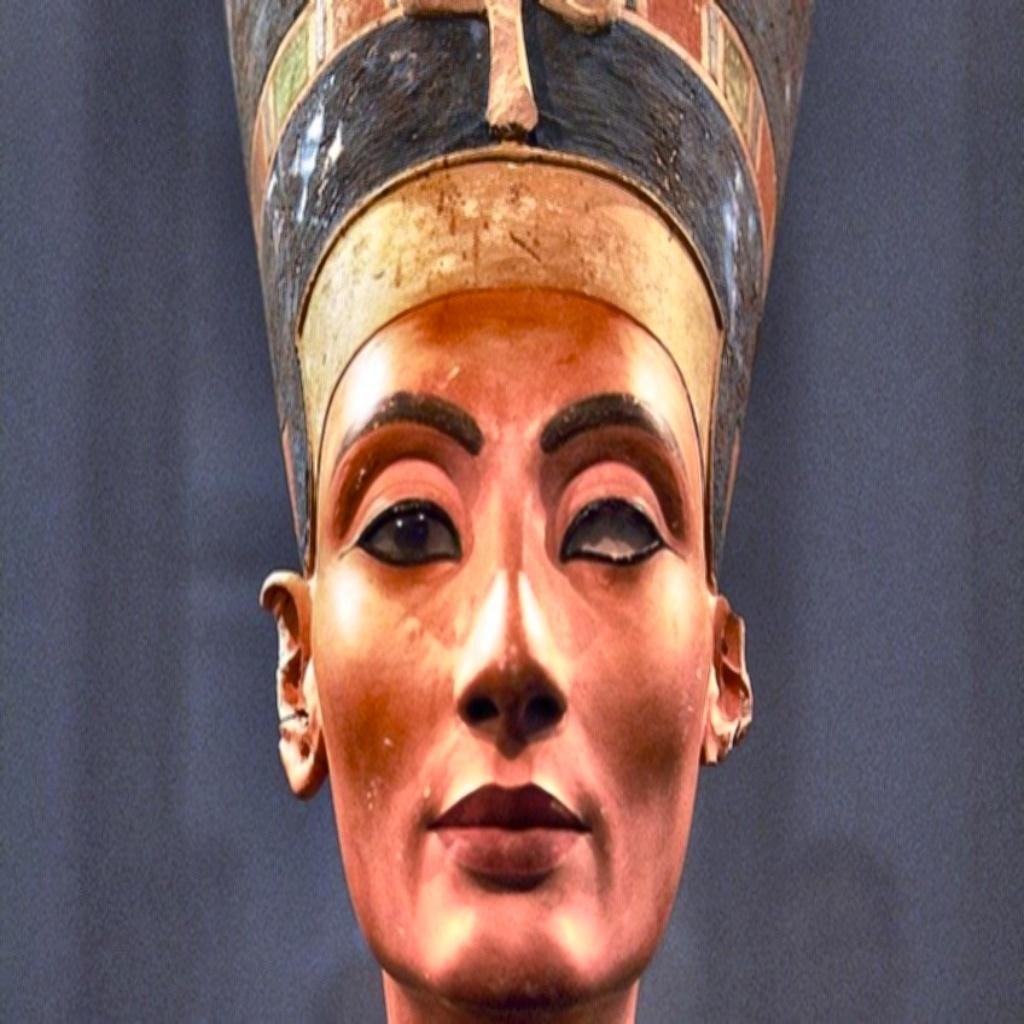Nefertiti: (220, 2, 815, 1018)
